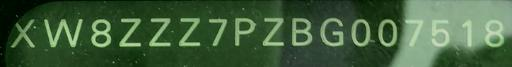letter: (38, 17, 84, 50), (142, 16, 172, 49), (258, 16, 288, 47), (316, 16, 346, 47), (176, 16, 204, 47), (477, 16, 505, 47), (84, 16, 112, 47), (113, 16, 141, 47), (347, 17, 375, 48), (9, 19, 37, 50), (288, 16, 314, 47), (427, 17, 453, 48), (206, 16, 230, 47), (231, 17, 255, 48), (454, 15, 476, 48), (399, 18, 425, 45), (378, 18, 398, 45)
